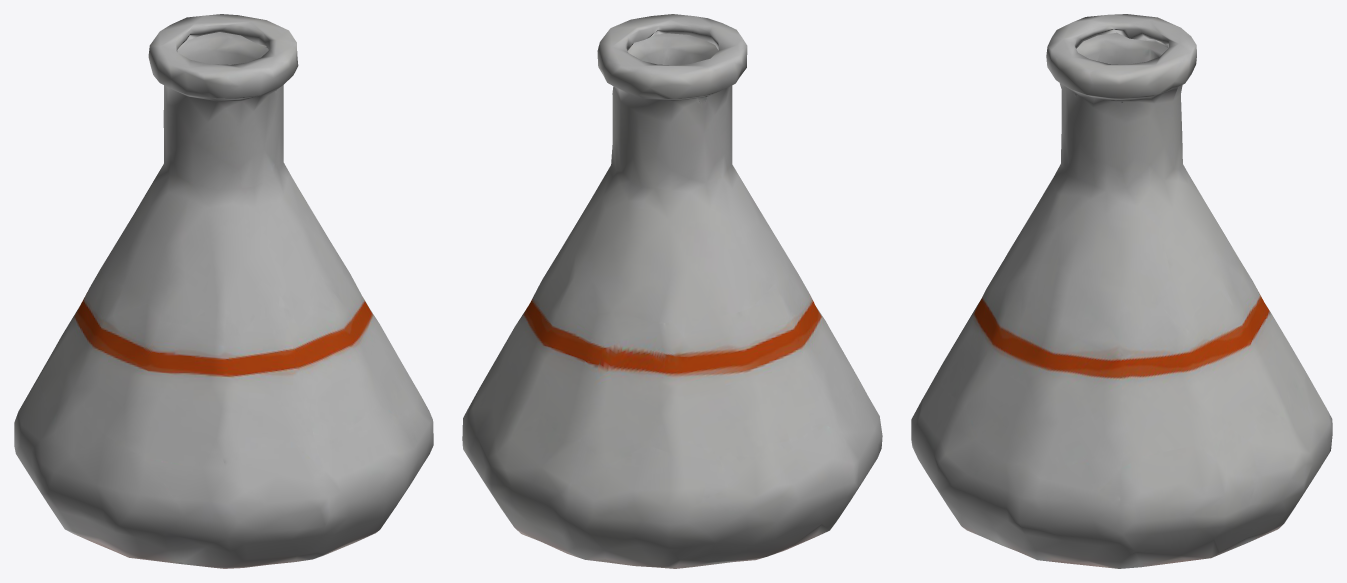
3 renders of one model, left to right at view 1: azimuth 30°, elevation 25°; view 2: azimuth 150°, elevation 25°; view 3: azimuth 270°, elevation 25°, orthographic.
Parts seen in each view (by area): view 1: tripo_node_cda6e33f-149d-4133-9807-8252f1821d97; view 2: tripo_node_cda6e33f-149d-4133-9807-8252f1821d97; view 3: tripo_node_cda6e33f-149d-4133-9807-8252f1821d97.
Boxes of the visible parts, bbox=[...] form: tripo_node_cda6e33f-149d-4133-9807-8252f1821d97: bbox=[14, 14, 433, 568]; tripo_node_cda6e33f-149d-4133-9807-8252f1821d97: bbox=[462, 14, 882, 568]; tripo_node_cda6e33f-149d-4133-9807-8252f1821d97: bbox=[911, 14, 1332, 568].
Bounding box in the file's own units: 0.8466 × 1 × 0.8477.
Materials: 1 (1 with a texture image).
